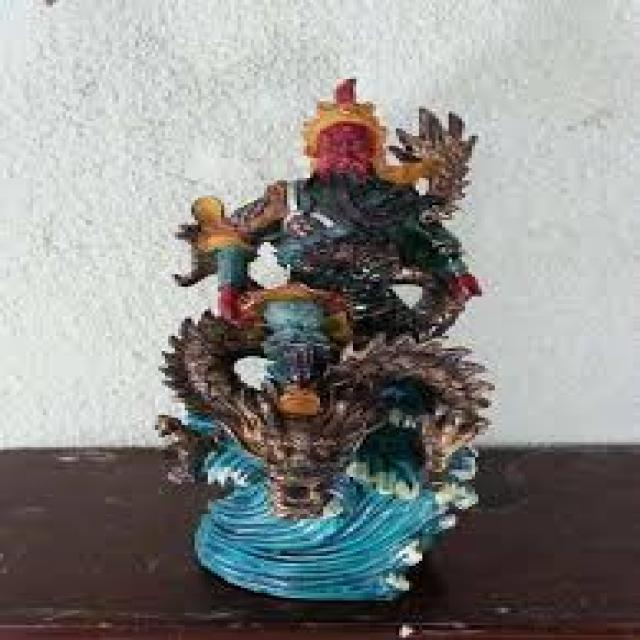Guan Yu: (231, 70, 449, 439)
